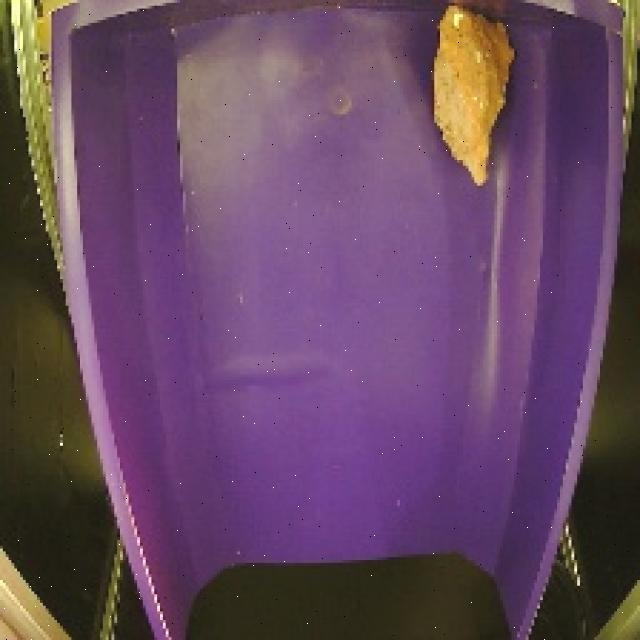brick: (424, 2, 531, 191)
